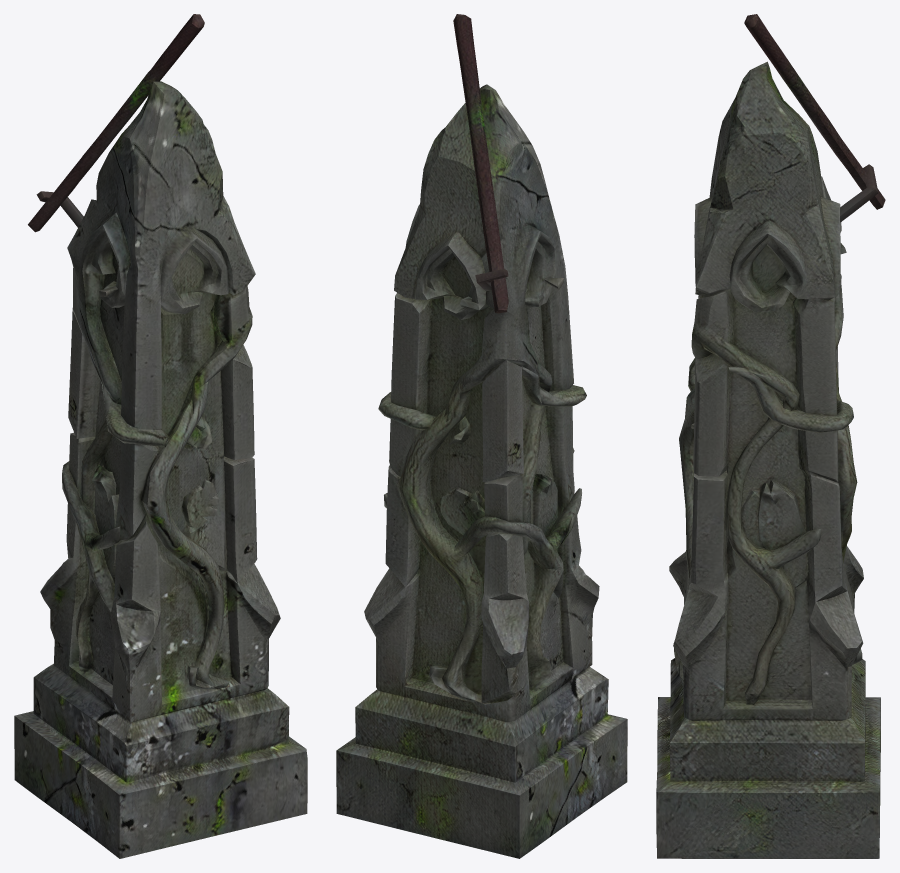
The model's file is chapel-pinnacle.glb.
The picture shows the model from 3 angles, left to right: view 1: azimuth 30°, elevation 25°; view 2: azimuth 150°, elevation 25°; view 3: azimuth 270°, elevation 25°; orthographic projection. The views are drawn at different scales.
Visible parts, largest first — view 1: model; view 2: model; view 3: model.
Boxes of the visible parts, left/top/right/bottom form: model: left=14, top=14, right=307, bottom=858; model: left=336, top=14, right=627, bottom=858; model: left=656, top=14, right=885, bottom=858.
Size of the model in its own units: 0.4788 by 1.9 by 0.4857.
Materials: 1 (1 with a texture image).
